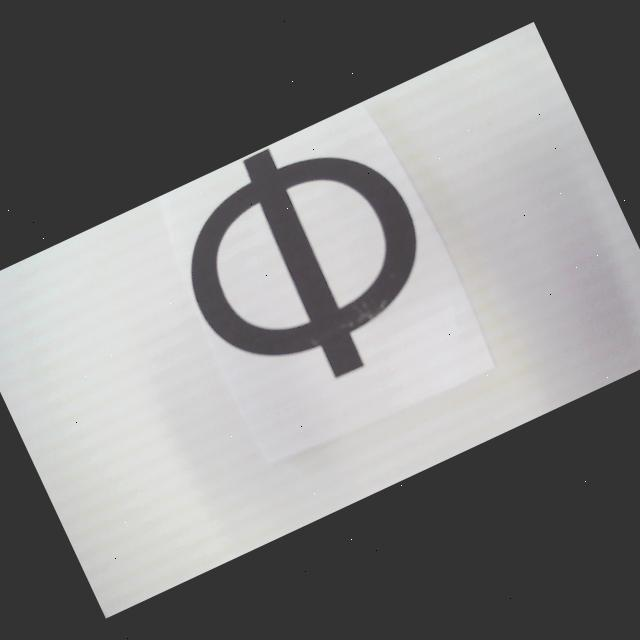PHI: (150, 106, 461, 420)
